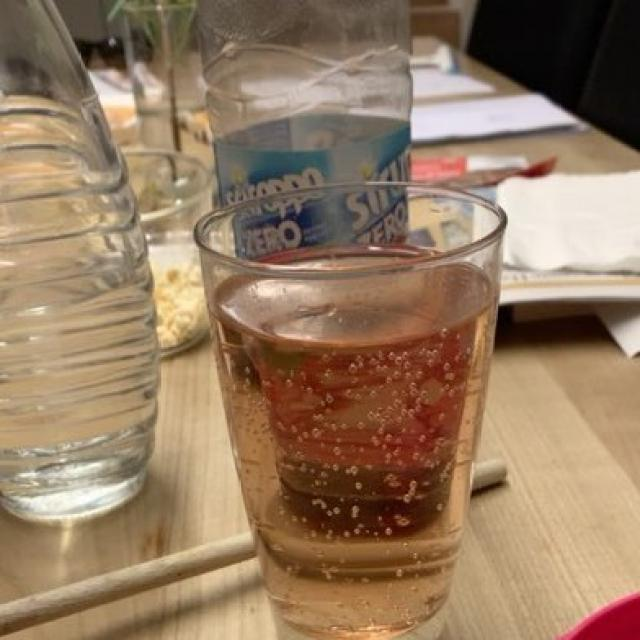drink: (212, 245, 489, 634)
